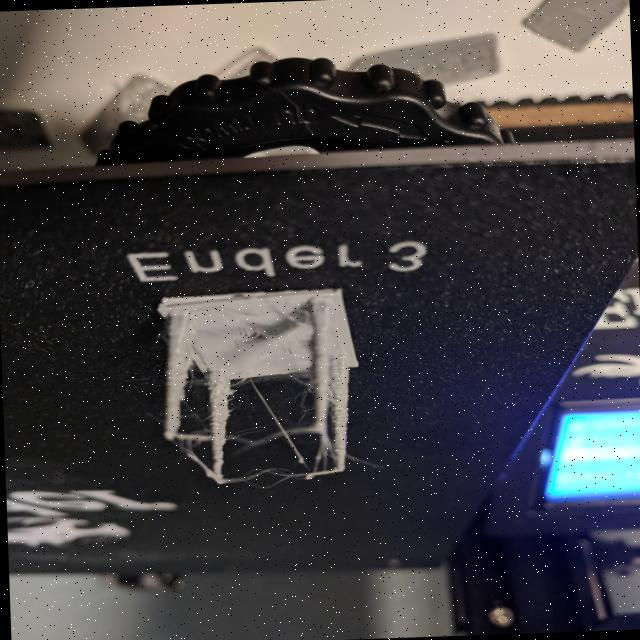stringing: (146, 341, 348, 478)
